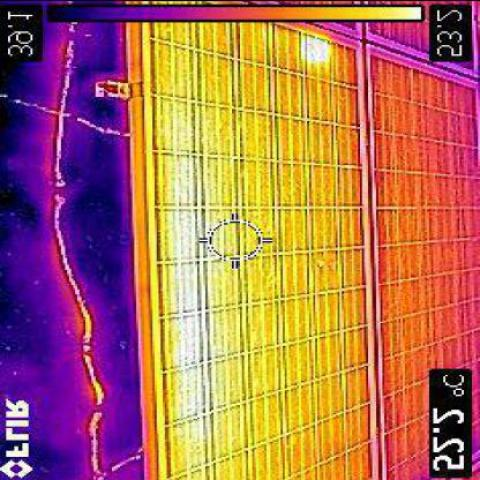fault: (169, 124, 198, 430), (304, 32, 332, 64)
